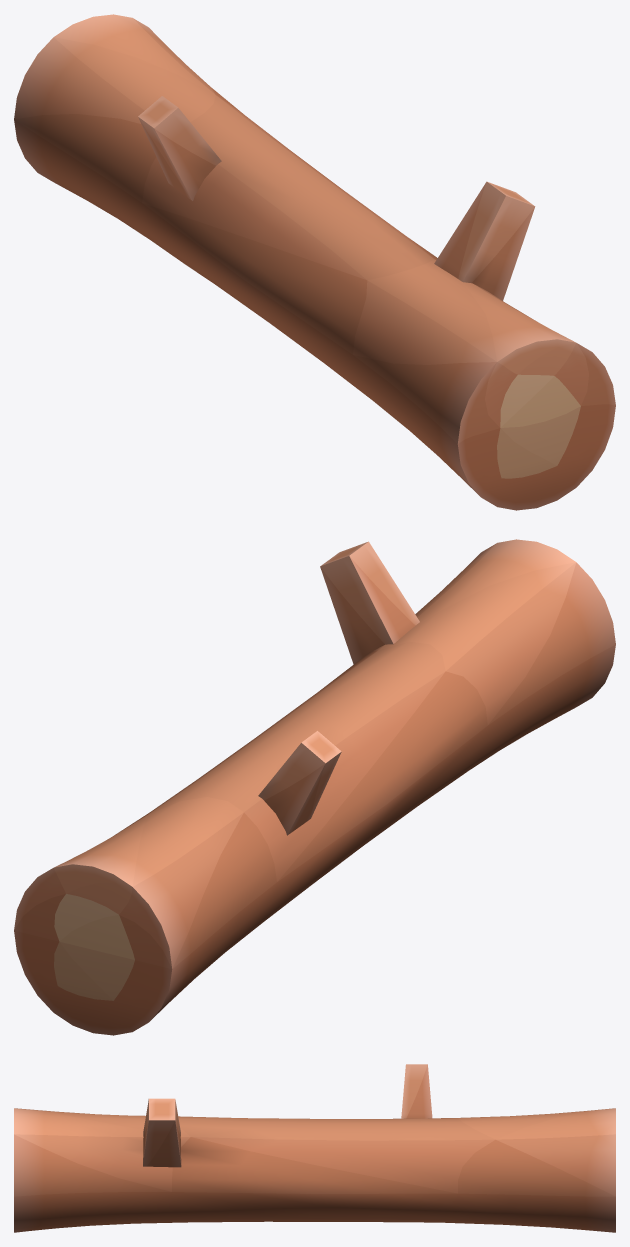
The model's file is prop_tree_log.glb.
The picture shows the model from 3 angles, top to bottom: view 1: azimuth 30°, elevation 25°; view 2: azimuth 150°, elevation 25°; view 3: azimuth 270°, elevation 25°; orthographic projection. The views are drawn at different scales.
Parts seen in each view (by area): view 1: refined; view 2: refined; view 3: refined.
Boxes of the visible parts, x1=… form: refined: x1=14, y1=14, x2=615, y2=510; refined: x1=14, y1=539, x2=615, y2=1035; refined: x1=14, y1=1064, x2=615, y2=1232.
Bounding box in the file's own units: 0.2495 × 0.2771 × 1.
